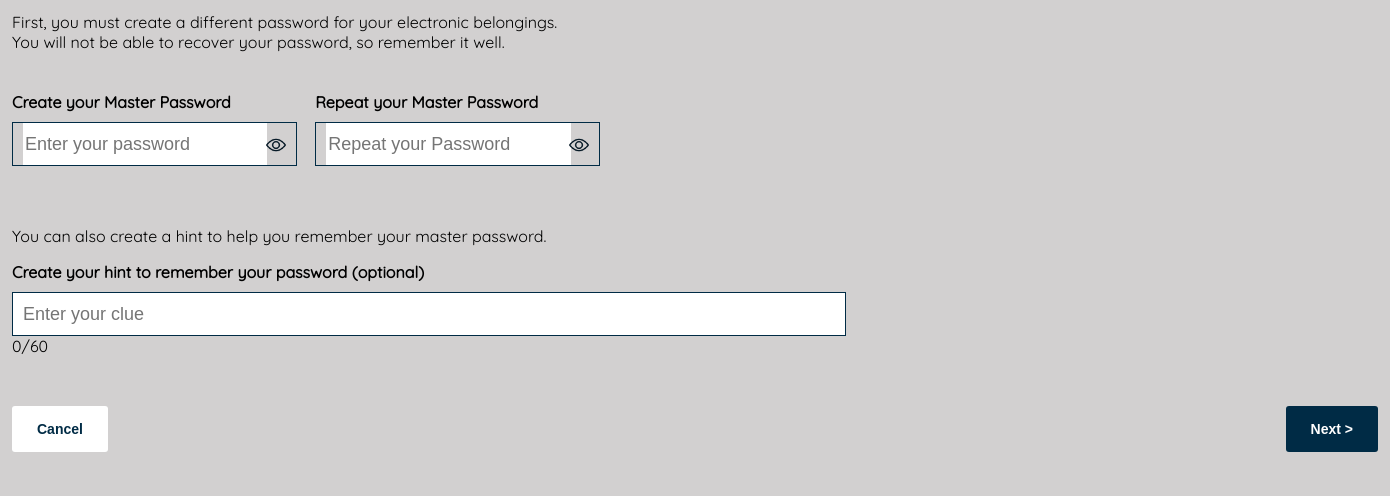
Scenario: views/passwordManager/components/formPassword/formPassword › should display a error on passwordInput when I submit error
The width and height of the screenshot is (1390, 496).
Click the button "Next >".
click(1332, 429)  # box [1286,406,1378,452]
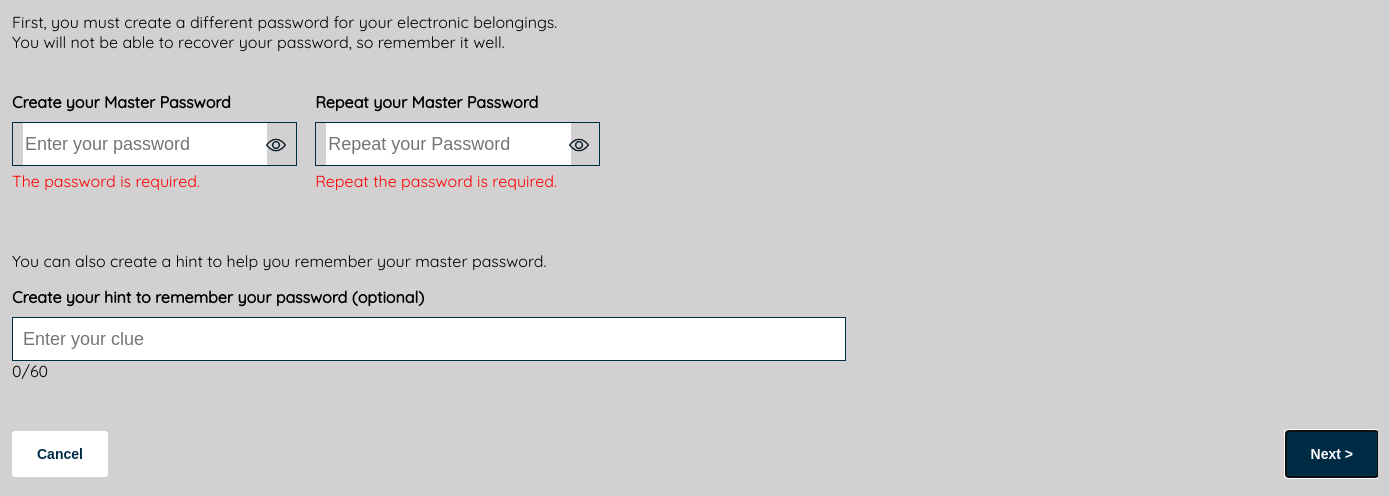
Check: the number of elements with class "invalid-feedback" is 2, box [12,171,200,191]; [315,171,588,191]
Check: the text "The password is required." is shown, box [12,171,200,191]
Check: the text "Repeat the password is required." is shown, box [315,171,588,191]
